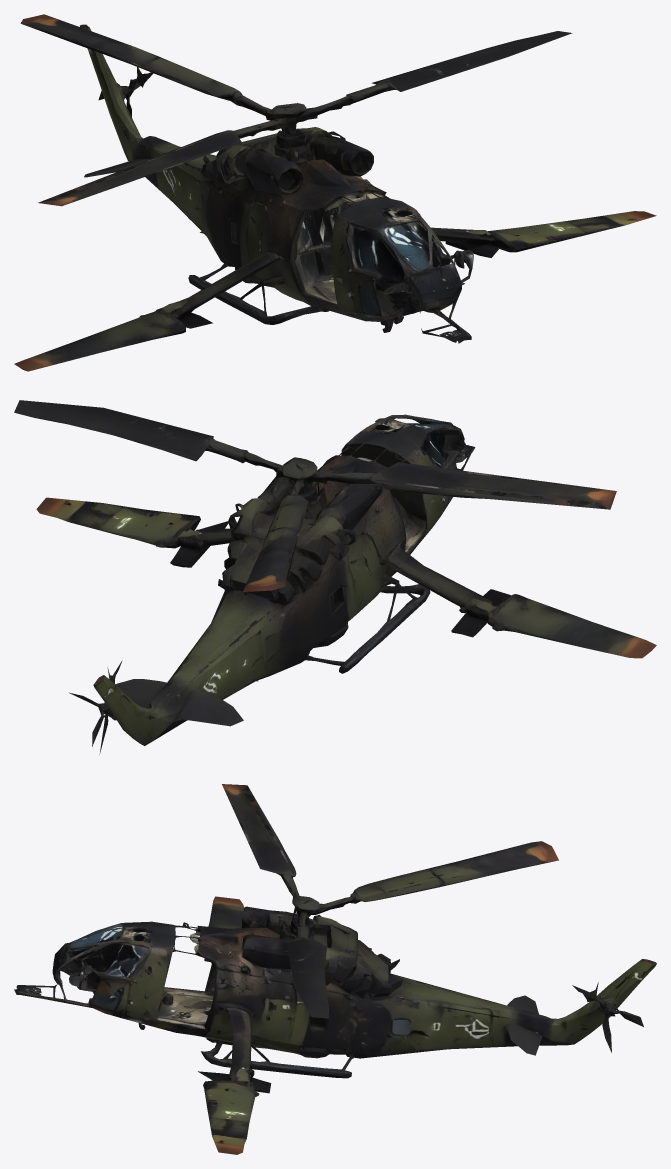
The model's file is heli_wreck.glb.
The picture shows the model from 3 angles, top to bottom: view 1: azimuth 30°, elevation 25°; view 2: azimuth 150°, elevation 25°; view 3: azimuth 270°, elevation 25°; orthographic projection. The views are drawn at different scales.
Parts seen in each view (by area): view 1: Mesh; view 2: Mesh; view 3: Mesh.
Boxes of the visible parts, bbox=[...] form: Mesh: bbox=[14, 14, 656, 371]; Mesh: bbox=[14, 400, 656, 754]; Mesh: bbox=[14, 784, 656, 1154].
Bounding box in the file's own units: 14.16 × 4.09 × 15.
1 material, 1 textured.
